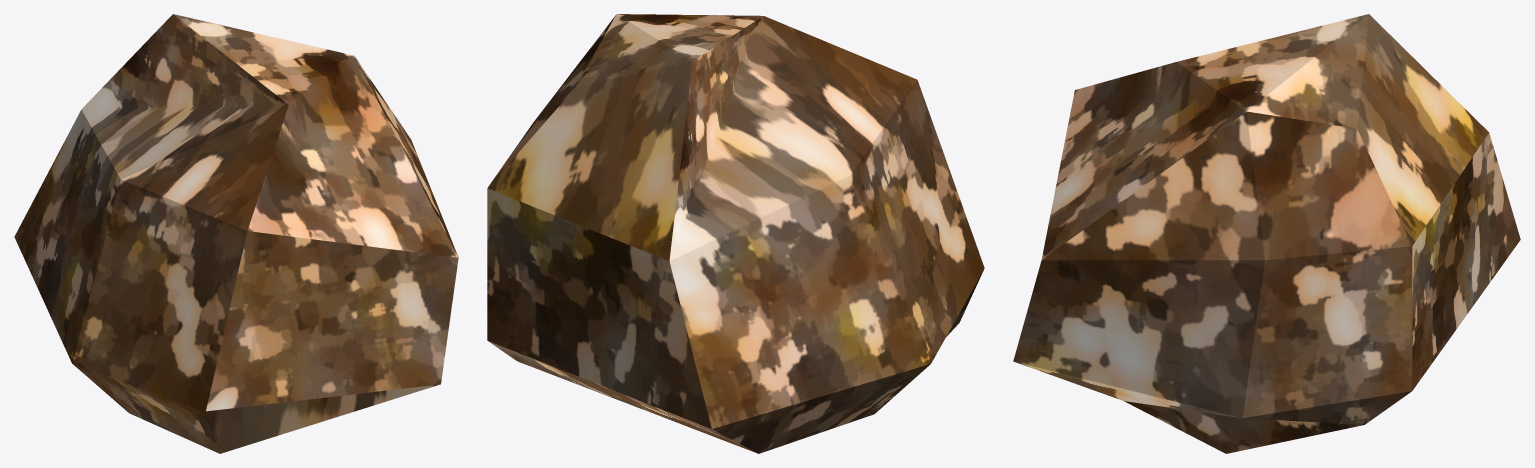
The model's file is rock_02.fbx.
3 views of the same model, side by side, from view 1: azimuth 30°, elevation 25°; view 2: azimuth 150°, elevation 25°; view 3: azimuth 270°, elevation 25° (orthographic). The views are drawn at different scales.
Visible parts, largest first — view 1: Rock2; view 2: Rock2; view 3: Rock2.
Boxes of the visible parts, x1,y1,x2,y2 form: Rock2: (14, 14, 458, 453); Rock2: (487, 14, 984, 453); Rock2: (1013, 14, 1520, 453).
Size of the model in its own units: 165 by 162 by 185.
